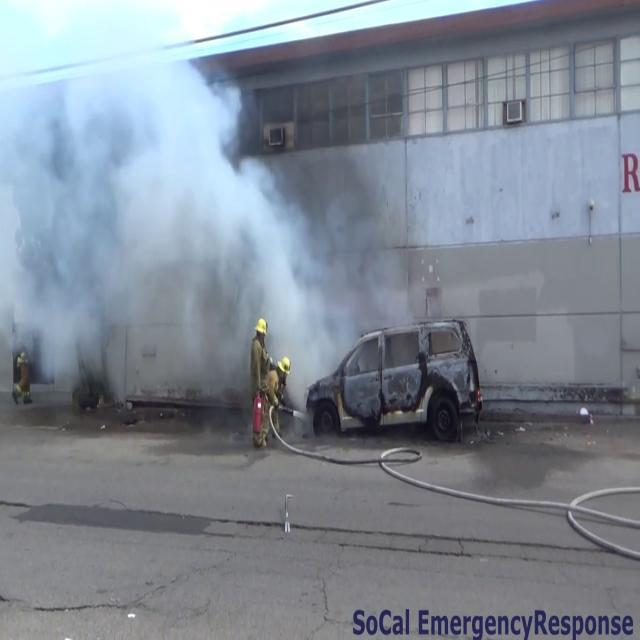Smoke: (0, 32, 333, 430)
